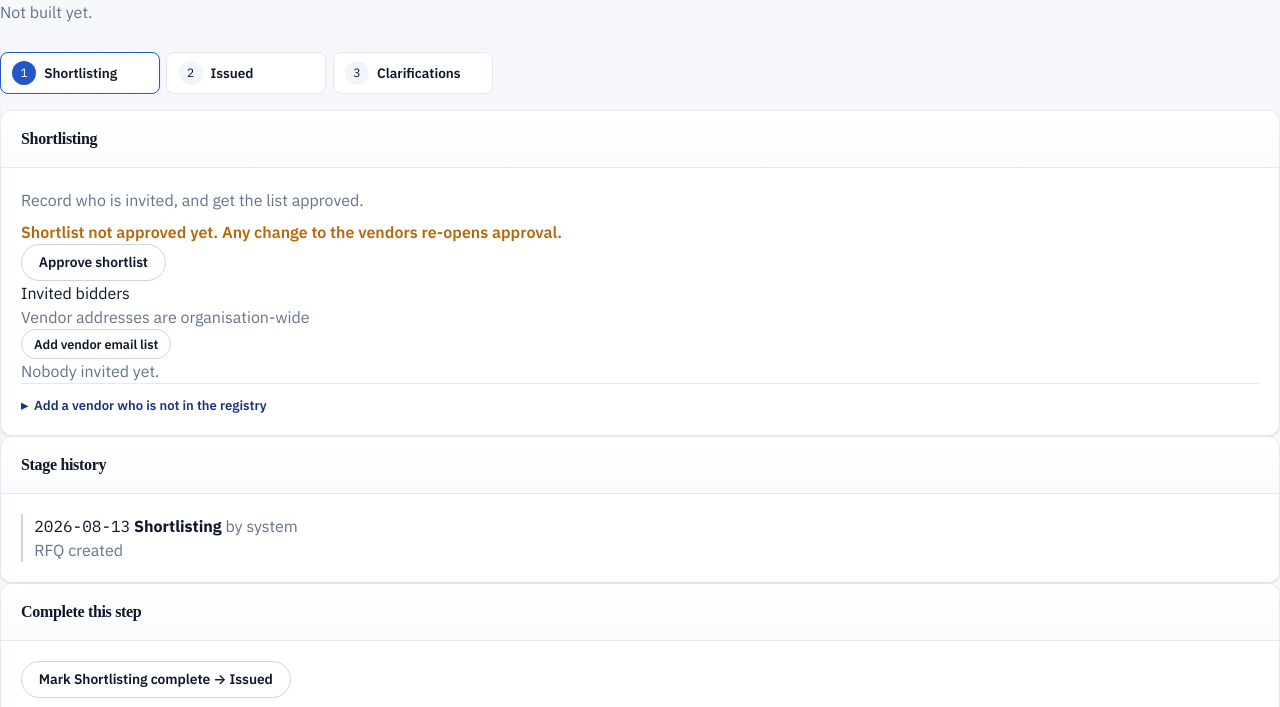
RfqWizard › surfaces the server’s refusal when a closed gate rejects the step
The image size is (1280, 707).
(page scrolled)
Click the button "Mark Shortlisting complete → Issued" at (156, 680), box x1=21 y1=661 x2=291 y2=698
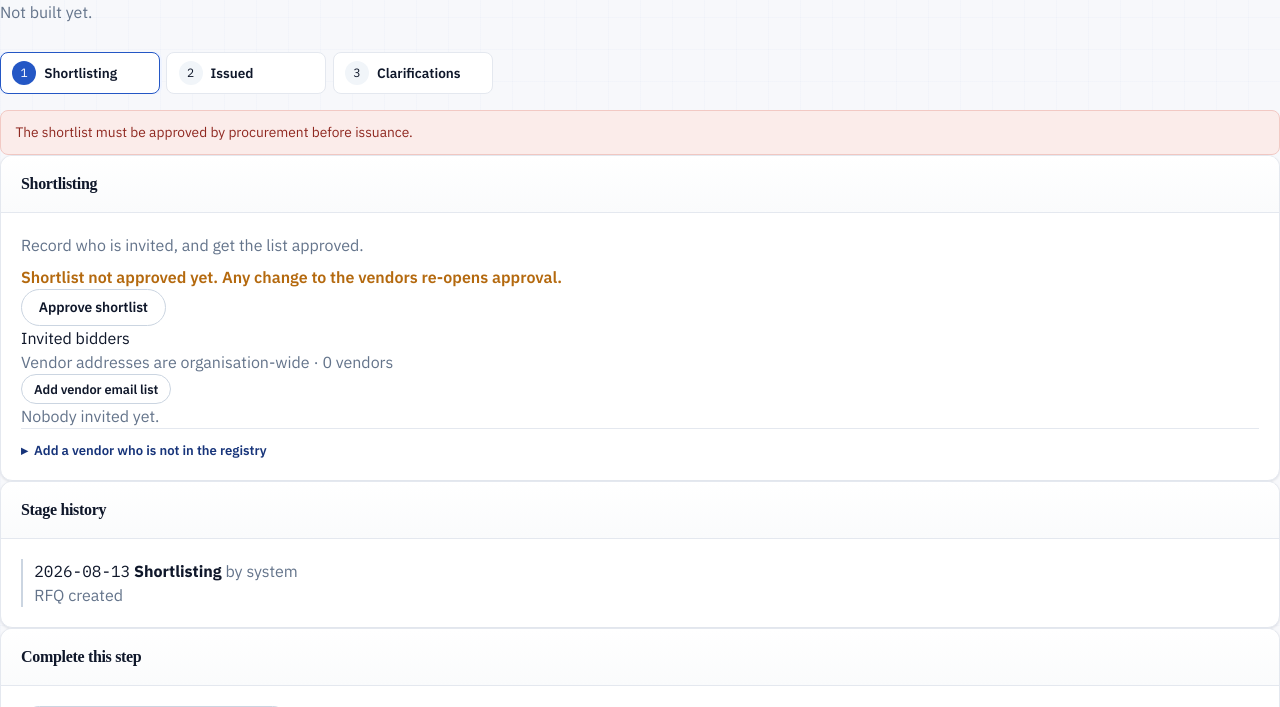
Expected: the text "The shortlist must be approved by procurement" is shown, x1=15 y1=123 x2=413 y2=141
